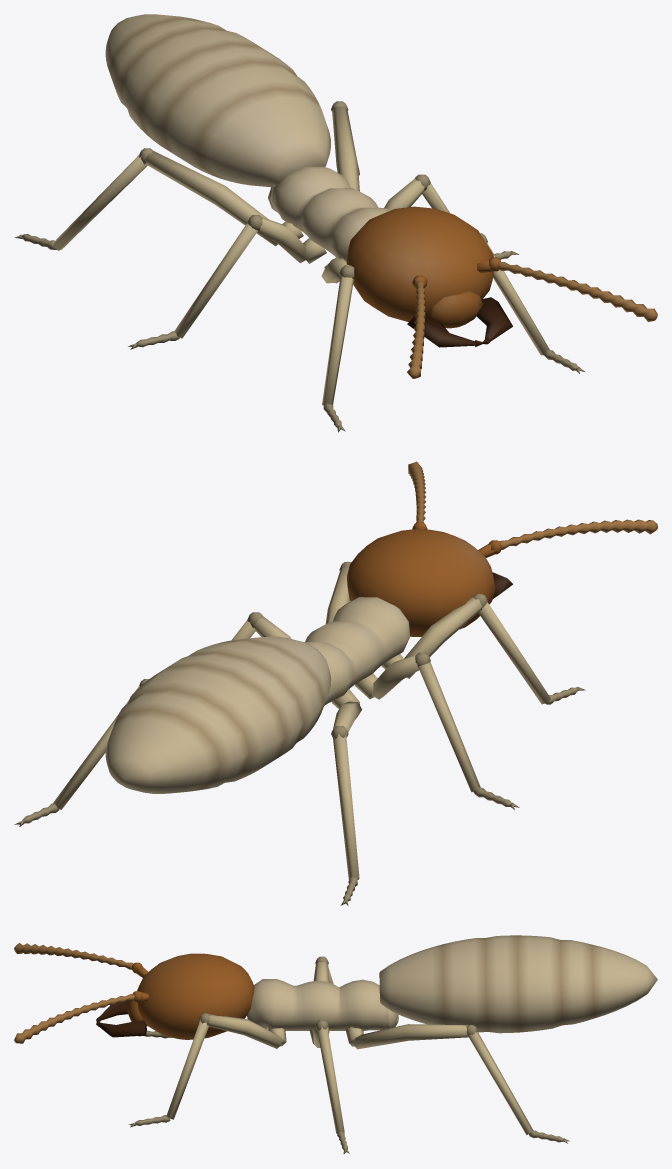
Rendered from MastotermesElectrodominicus.fbx.
The picture shows the model from 3 angles, top to bottom: view 1: azimuth 30°, elevation 25°; view 2: azimuth 150°, elevation 25°; view 3: azimuth 270°, elevation 25°; orthographic projection. The views are drawn at different scales.
Visible parts, largest first — view 1: MastotermesElectrodominicus; view 2: MastotermesElectrodominicus; view 3: MastotermesElectrodominicus.
Boxes of the visible parts, bbox=[...] form: MastotermesElectrodominicus: bbox=[14, 14, 657, 432]; MastotermesElectrodominicus: bbox=[14, 461, 657, 905]; MastotermesElectrodominicus: bbox=[14, 935, 657, 1153].
Size of the model in its own units: 0.7584 by 0.324 by 1.39.
